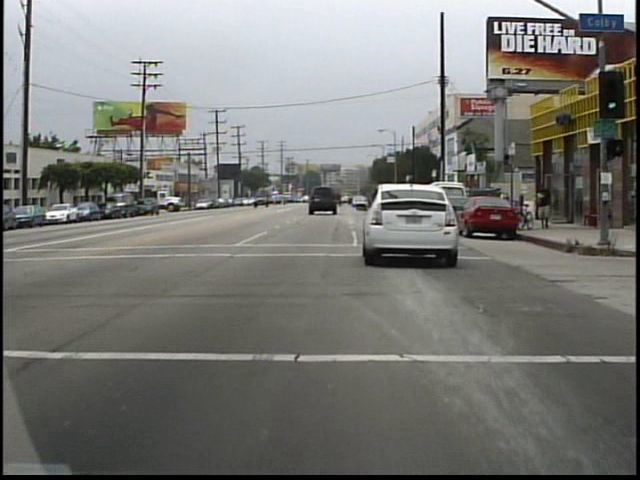person: (535, 177, 556, 233)
